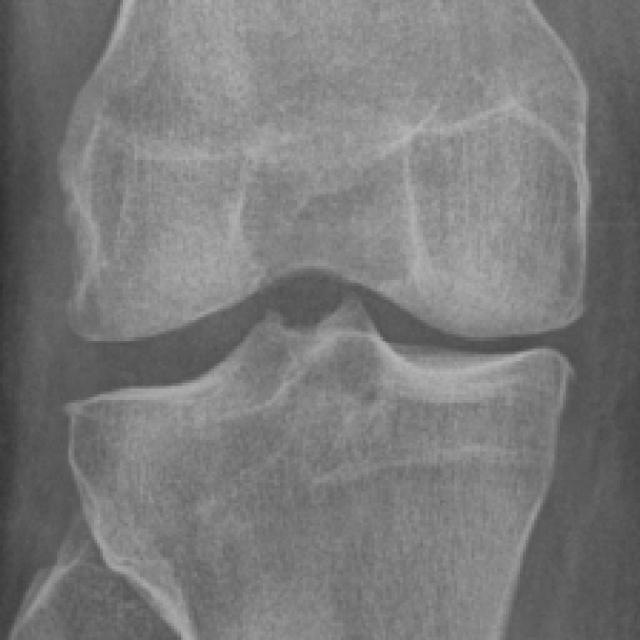femur: (59, 0, 590, 339)
tibia: (69, 309, 569, 640)
